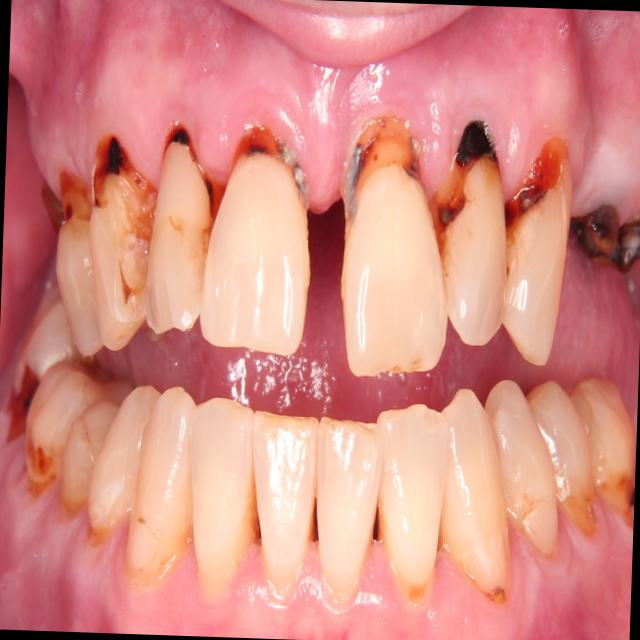tooth: (327, 103, 461, 386), (198, 119, 323, 361), (423, 107, 519, 351), (486, 121, 578, 372), (425, 379, 523, 610), (79, 125, 166, 359), (365, 396, 456, 611), (179, 390, 269, 607), (138, 115, 222, 345), (242, 392, 329, 606), (120, 372, 204, 591), (474, 366, 567, 562), (307, 402, 391, 616), (18, 352, 130, 509), (74, 376, 164, 557), (517, 371, 607, 546), (9, 271, 102, 432), (48, 165, 118, 363), (567, 362, 639, 536), (55, 390, 123, 521), (566, 188, 623, 271), (30, 166, 78, 262), (612, 172, 640, 282)
